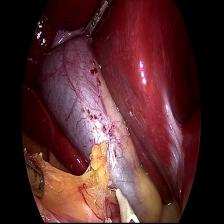Grasper: (22, 151, 47, 204)
Hook: (105, 178, 142, 222)
